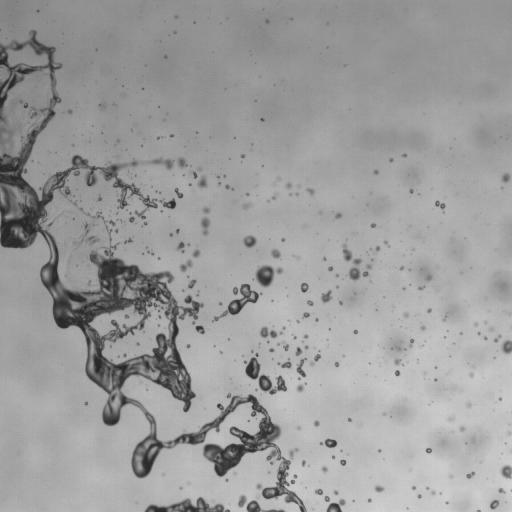droplet: (74, 207, 115, 245), (342, 243, 371, 280), (254, 265, 282, 287), (326, 499, 345, 511), (243, 235, 256, 247), (321, 438, 337, 447), (321, 290, 332, 303), (500, 465, 511, 478), (180, 260, 192, 271), (197, 175, 207, 188), (501, 340, 511, 353), (278, 359, 291, 368), (177, 157, 186, 168), (501, 173, 511, 182), (271, 249, 280, 259), (278, 341, 288, 350), (490, 499, 499, 509), (195, 325, 204, 334), (435, 201, 445, 209), (176, 242, 184, 252), (300, 282, 308, 292), (188, 279, 196, 288), (296, 383, 305, 391), (192, 249, 200, 257), (374, 485, 383, 492), (243, 202, 251, 209), (295, 347, 302, 355), (394, 358, 402, 365), (466, 472, 475, 478), (190, 171, 197, 178), (307, 188, 314, 195), (494, 335, 501, 342), (203, 207, 210, 213), (374, 246, 380, 253), (302, 312, 309, 318), (315, 489, 322, 495), (124, 238, 132, 243), (426, 274, 432, 280), (307, 300, 313, 306), (394, 370, 400, 376), (340, 459, 346, 465), (321, 466, 327, 472), (286, 182, 291, 188), (272, 193, 277, 199), (335, 213, 341, 218), (384, 240, 389, 246), (418, 285, 424, 290), (403, 312, 409, 317), (448, 416, 454, 421), (314, 420, 319, 426), (498, 488, 504, 493), (99, 103, 104, 108), (466, 402, 471, 407), (459, 426, 464, 431), (426, 448, 431, 453), (333, 490, 338, 495), (324, 496, 329, 501), (301, 460, 305, 466), (225, 184, 230, 188), (97, 196, 101, 201), (328, 266, 332, 271), (421, 325, 425, 330), (469, 372, 473, 377), (431, 490, 435, 495), (240, 154, 244, 158), (374, 170, 378, 174), (409, 189, 413, 193), (143, 221, 147, 225), (371, 223, 375, 227), (427, 308, 431, 312), (124, 314, 128, 318), (489, 327, 493, 331), (292, 335, 296, 339), (304, 334, 308, 338), (304, 345, 308, 349), (334, 362, 338, 366), (68, 110, 72, 113), (402, 154, 406, 157), (389, 158, 393, 161), (114, 229, 118, 232), (149, 251, 153, 254), (400, 266, 403, 270), (158, 314, 161, 318), (443, 317, 446, 321), (474, 323, 478, 326), (270, 348, 273, 352), (453, 387, 457, 390), (508, 431, 511, 435), (417, 495, 421, 498), (170, 134, 173, 137), (176, 229, 179, 232), (323, 257, 326, 260), (196, 292, 199, 295), (339, 301, 342, 304), (354, 330, 357, 333), (484, 336, 487, 339), (499, 397, 502, 400), (412, 486, 415, 489), (294, 256, 298, 258), (186, 345, 190, 347), (477, 509, 481, 511), (266, 20, 268, 23), (261, 118, 263, 121), (157, 137, 160, 139), (217, 175, 219, 178), (282, 238, 284, 241), (219, 302, 221, 305), (315, 318, 318, 320), (484, 321, 487, 323), (477, 332, 480, 334), (137, 342, 139, 345), (398, 347, 400, 350), (348, 418, 351, 420), (449, 475, 452, 477), (225, 479, 228, 481), (368, 499, 371, 501), (198, 168, 200, 170), (157, 191, 159, 193), (85, 402, 87, 404), (383, 413, 385, 415), (378, 449, 380, 451), (332, 456, 334, 458), (446, 501, 448, 503)
ligament: (0, 30, 306, 511), (212, 284, 260, 321), (244, 353, 286, 394), (144, 497, 230, 511), (238, 494, 284, 511), (259, 326, 285, 338), (296, 358, 306, 379), (201, 217, 210, 235), (310, 352, 320, 366), (174, 188, 183, 198), (55, 212, 63, 219), (70, 200, 77, 205), (409, 338, 413, 346), (510, 449, 511, 452)
